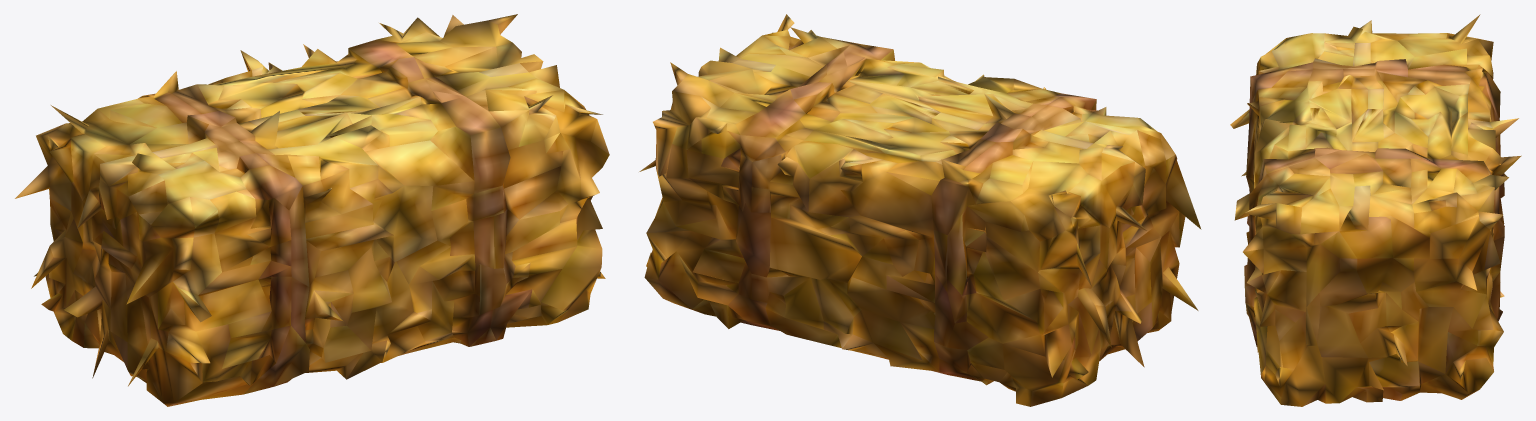
The model's file is hay.glb.
3 views of the same model, side by side, from view 1: azimuth 30°, elevation 25°; view 2: azimuth 150°, elevation 25°; view 3: azimuth 270°, elevation 25° (orthographic). The views are drawn at different scales.
Parts seen in each view (by area): view 1: tripo_node_2f3943a4-6a22-4607-b104-488f25c179a5; view 2: tripo_node_2f3943a4-6a22-4607-b104-488f25c179a5; view 3: tripo_node_2f3943a4-6a22-4607-b104-488f25c179a5.
Part boxes in pixels (x1,y1,x2,y2): tripo_node_2f3943a4-6a22-4607-b104-488f25c179a5: (15, 14, 609, 406); tripo_node_2f3943a4-6a22-4607-b104-488f25c179a5: (639, 14, 1201, 406); tripo_node_2f3943a4-6a22-4607-b104-488f25c179a5: (1230, 14, 1521, 406).
Bounding box in the file's own units: 0.9553 × 0.4564 × 0.5514.
Materials: 1 (1 with a texture image).
